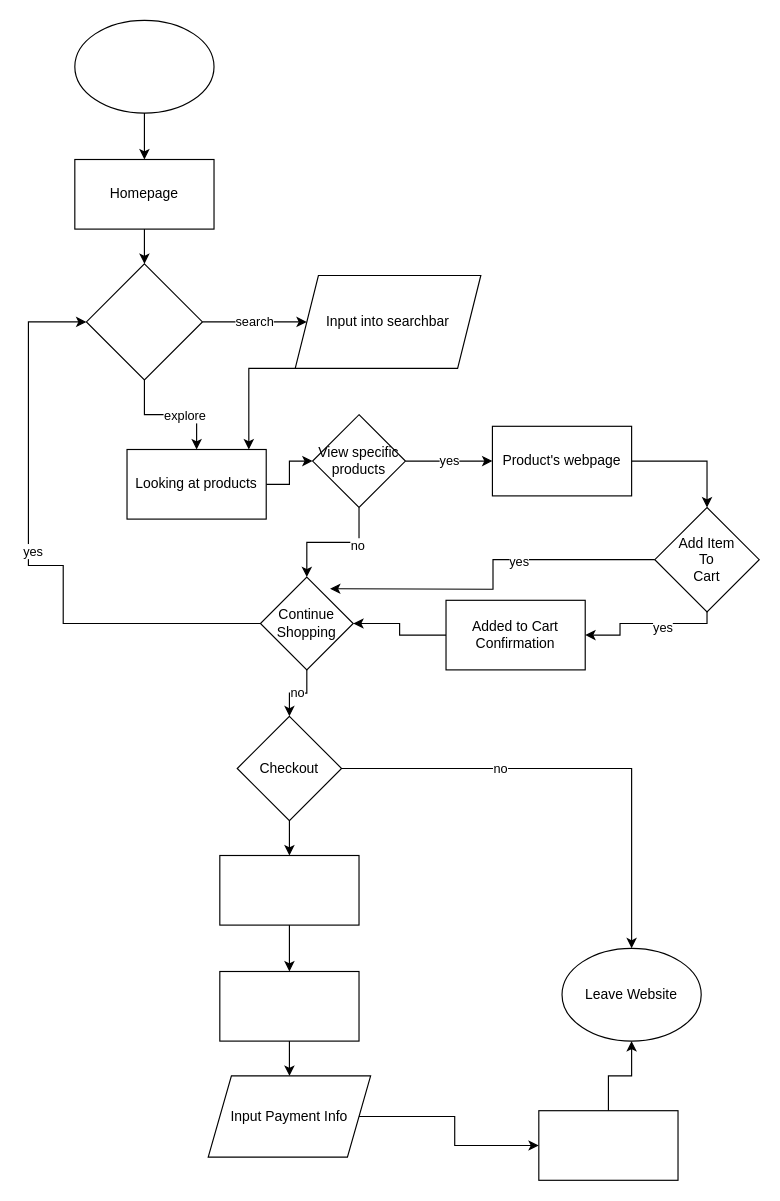
The diagram is 780 pixels wide and 1201 high, and some of its shapes have lost their labels. Here are the shapes that lost their labels. From the top down, the box of each, then its label:
(74, 19, 214, 113): Enter Website
(85, 263, 202, 380): Search/Explore
(219, 854, 359, 925): View Cart
(219, 970, 359, 1041): View Payment
(538, 1110, 678, 1180): Order Confirmation
